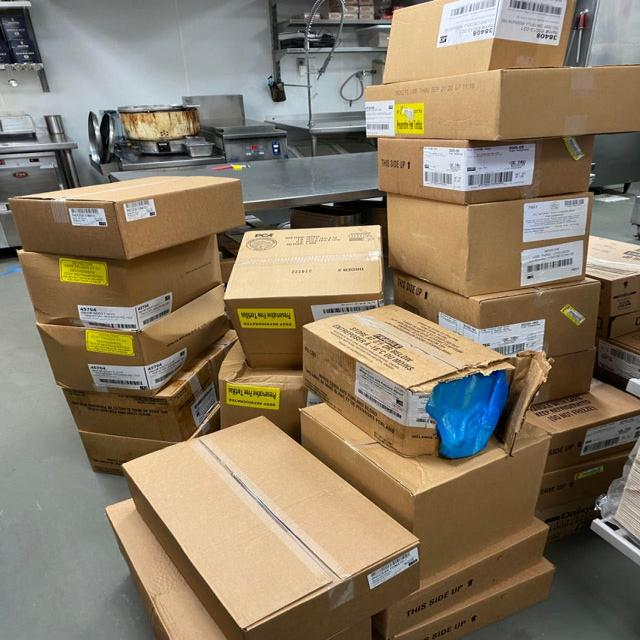leakage: (379, 339, 552, 484)
